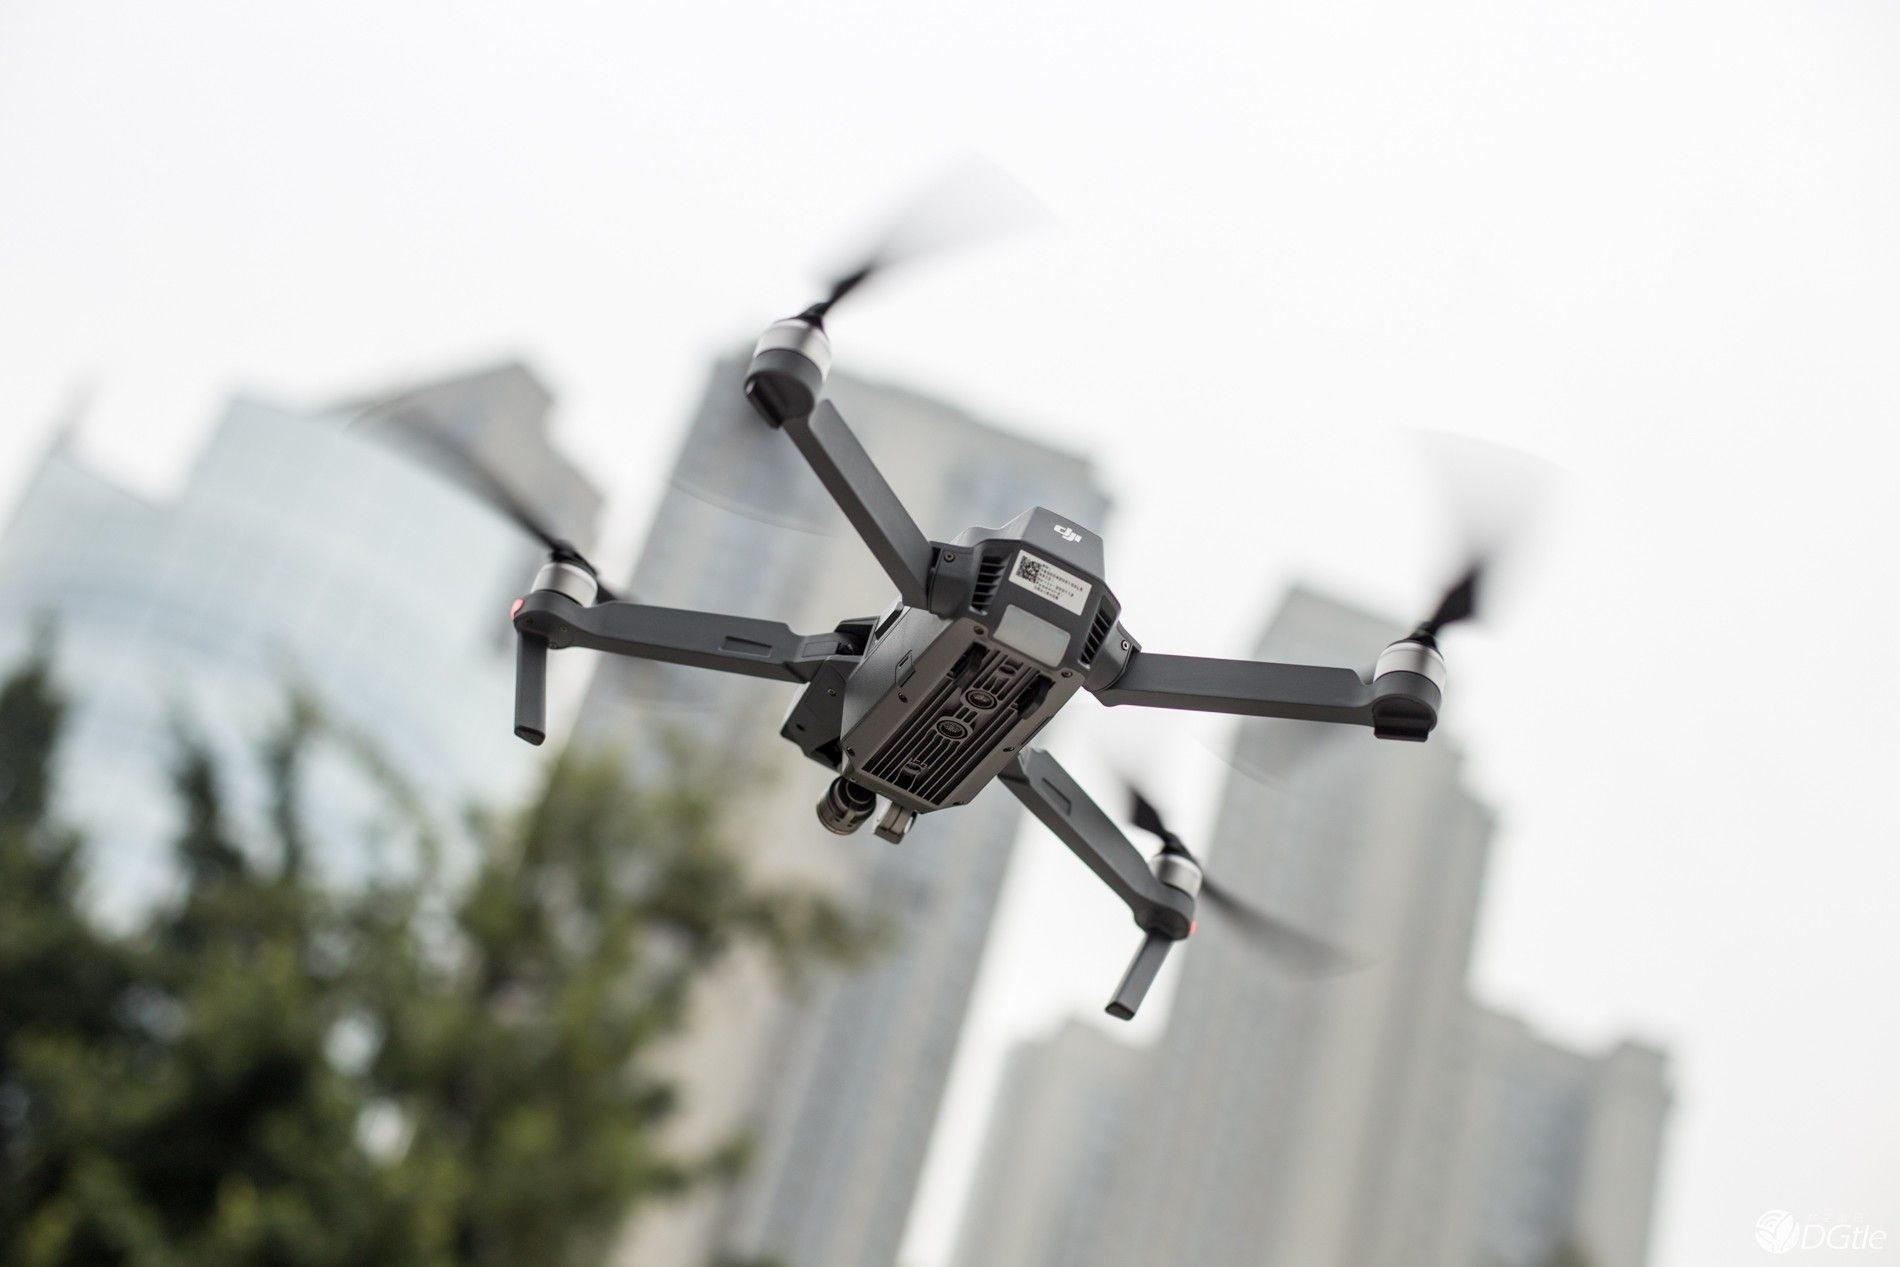DJI: (505, 308, 1453, 1032)
